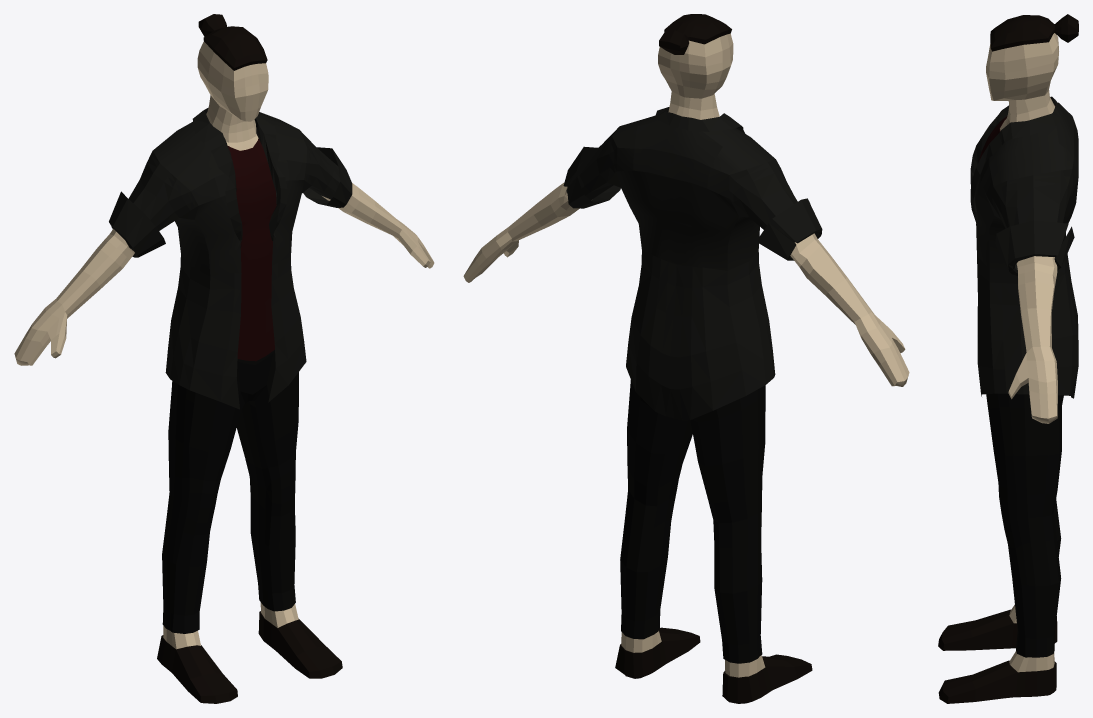
Rendered from princeGame.fbx.
The picture shows the model from 3 angles, left to right: view 1: azimuth 30°, elevation 25°; view 2: azimuth 150°, elevation 25°; view 3: azimuth 270°, elevation 25°; orthographic projection. The views are drawn at different scales.
Parts seen in each view (by area): view 1: Jacket, Pants, Body, Shirt, Shoes, Hair; view 2: Jacket, Pants, Body, Shoes, Hair; view 3: Jacket, Pants, Body, Shoes, Hair.
Part boxes in pixels (x1,y1,x2,y2): Jacket: (109, 108, 352, 409); Pants: (162, 350, 298, 633); Body: (14, 41, 434, 649); Shirt: (227, 138, 276, 361); Shoes: (157, 611, 342, 703); Hair: (198, 14, 267, 70); Jacket: (563, 107, 822, 420); Pants: (620, 380, 765, 663); Body: (463, 33, 909, 677); Shoes: (615, 627, 812, 703); Hair: (659, 14, 731, 54); Jacket: (970, 96, 1078, 398); Pants: (986, 393, 1063, 657); Body: (986, 33, 1058, 672); Shoes: (938, 609, 1057, 703); Hair: (990, 14, 1078, 51).
Bounding box in the file's own units: 23.39 × 34.05 × 6.64.
